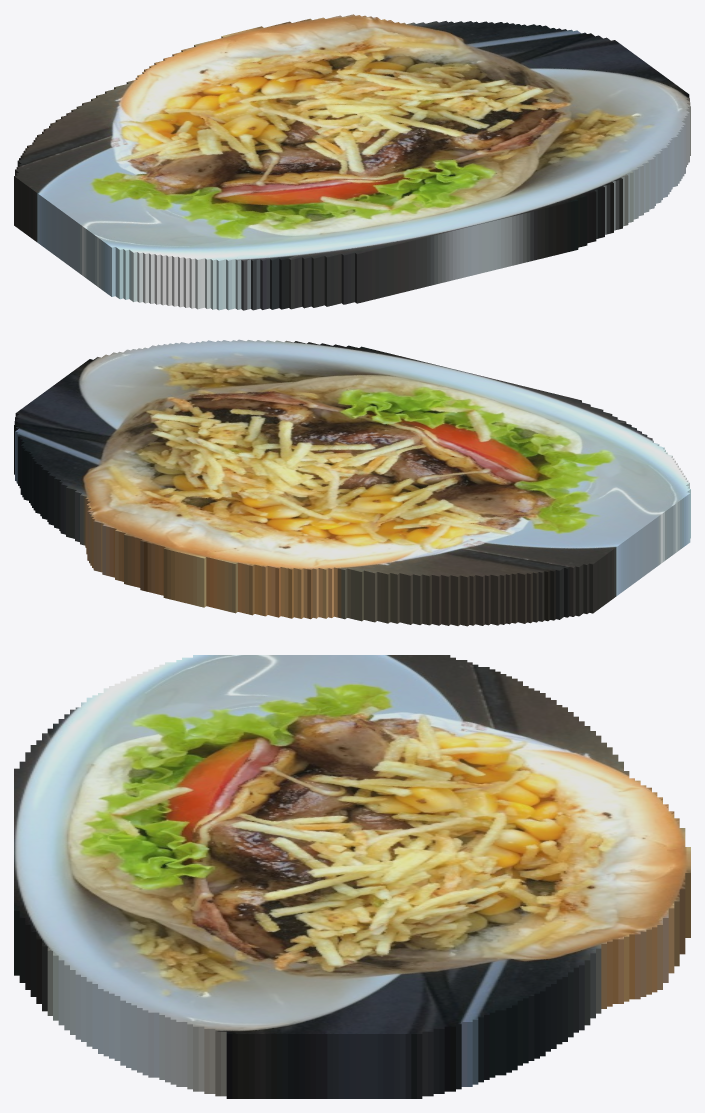
File: xcoracao.glb
The picture shows the model from 3 angles, top to bottom: view 1: azimuth 30°, elevation 25°; view 2: azimuth 150°, elevation 25°; view 3: azimuth 270°, elevation 25°; orthographic projection. The views are drawn at different scales.
Bounding box in the file's own units: 0.1 × 0.008 × 0.0755.
1 material, 1 textured.
